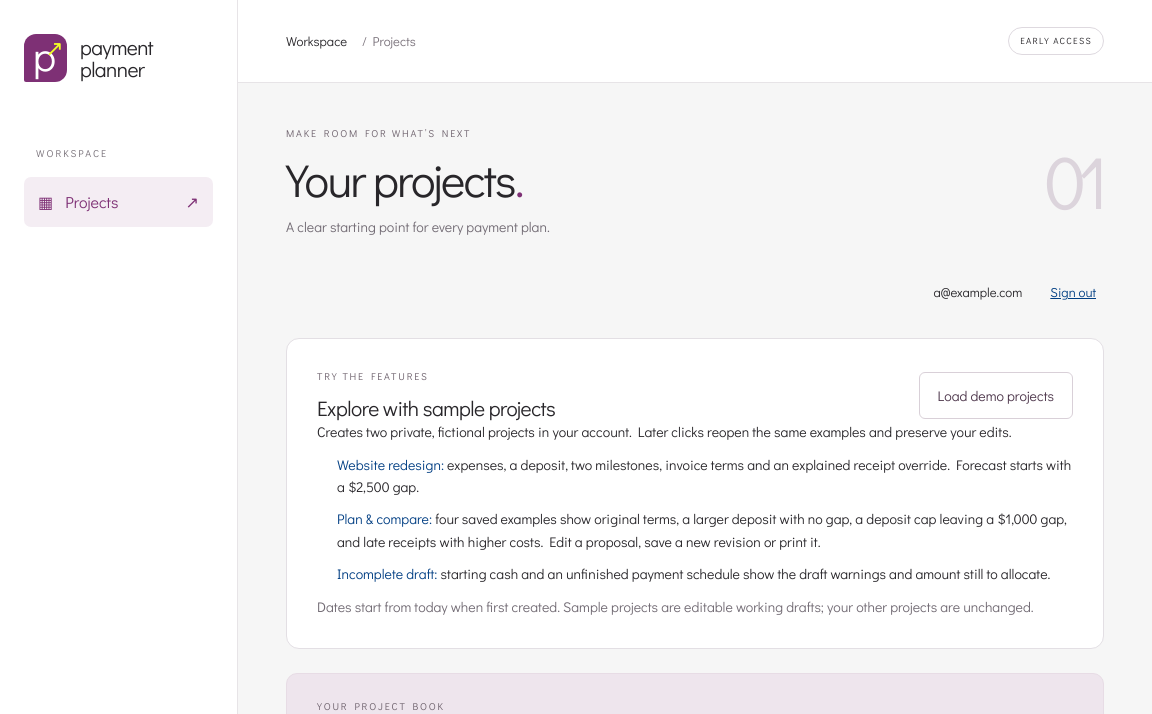
Test: clears projects on sign-out and returns to the sign-in form
The image size is (1152, 714).
Click the button "Sign out" at (1073, 292), box [1042, 270, 1104, 314]
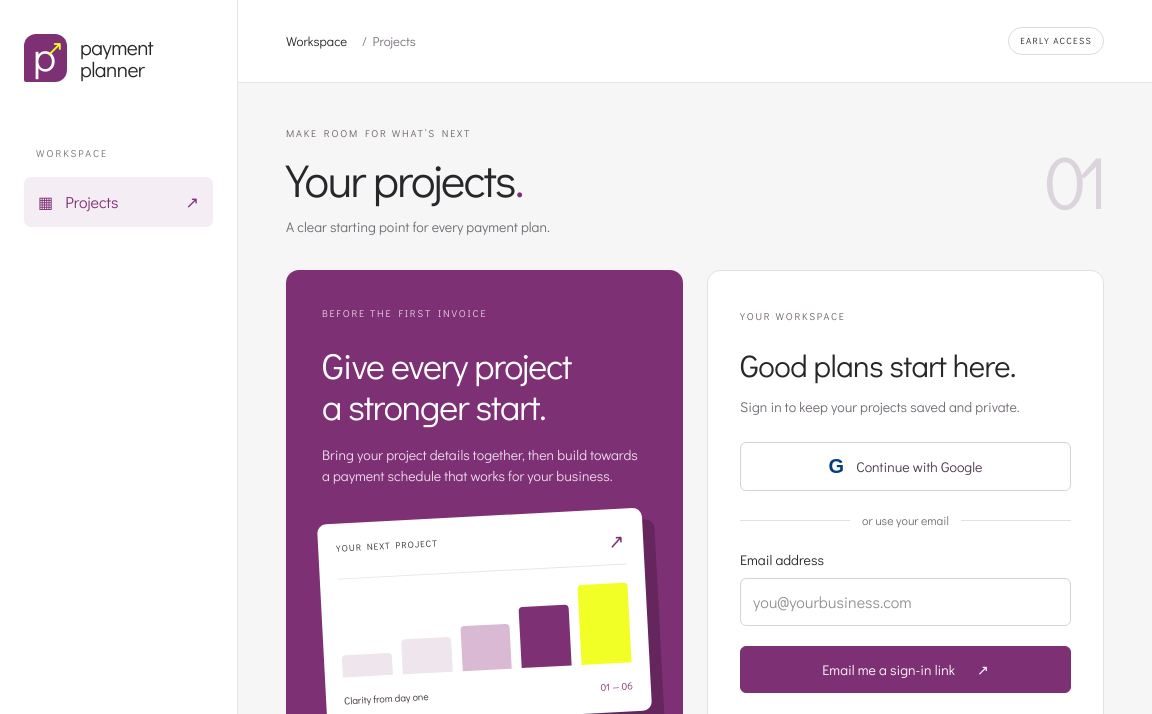
Expected: the field labelled "Email address" is shown, [740, 578, 1071, 626]
